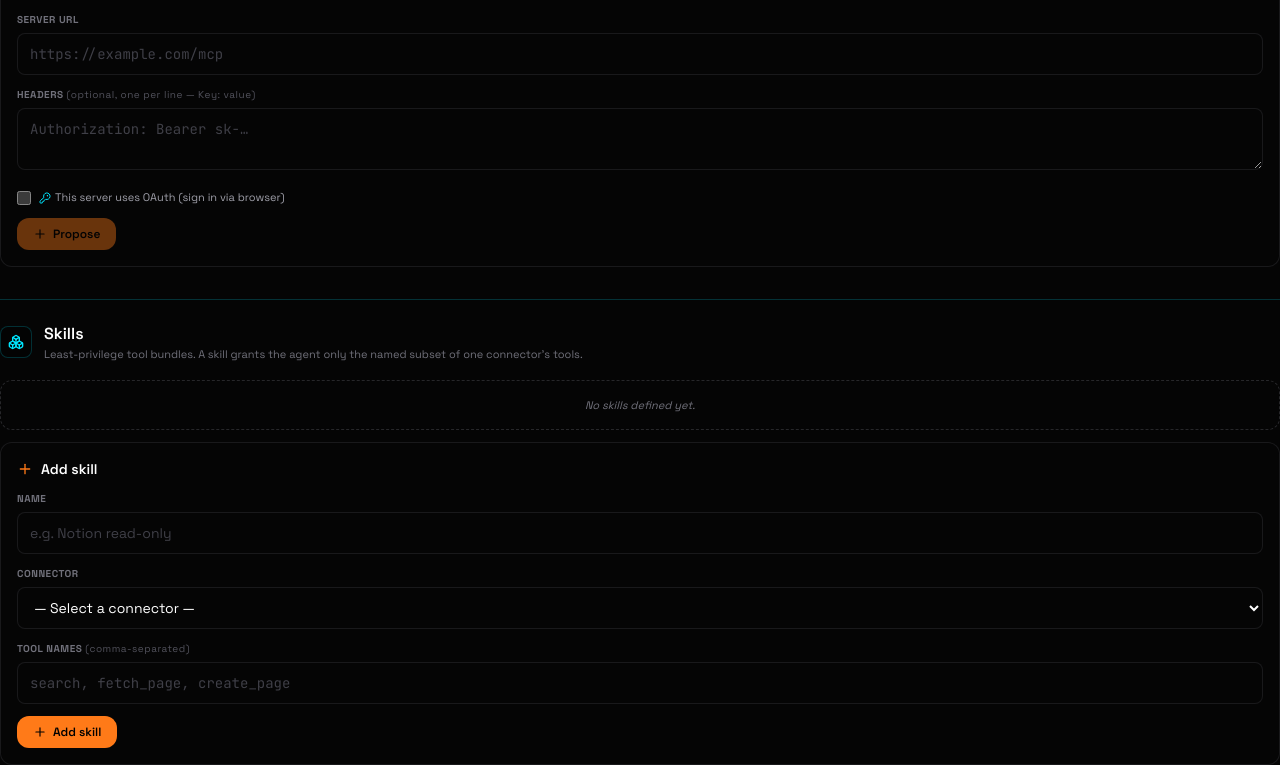
Scenario: CustomizePanel — skills (4NE-27) › Add skill surfaces validation errors and does NOT save an invalid bundle
This screenshot has width=1280, height=765.
(page scrolled)
Type "Broken" into the field with placeholder "e.g. Notion read-only" below "No skills defined yet." at x=640, y=533, box 17,512 -> 1263,554
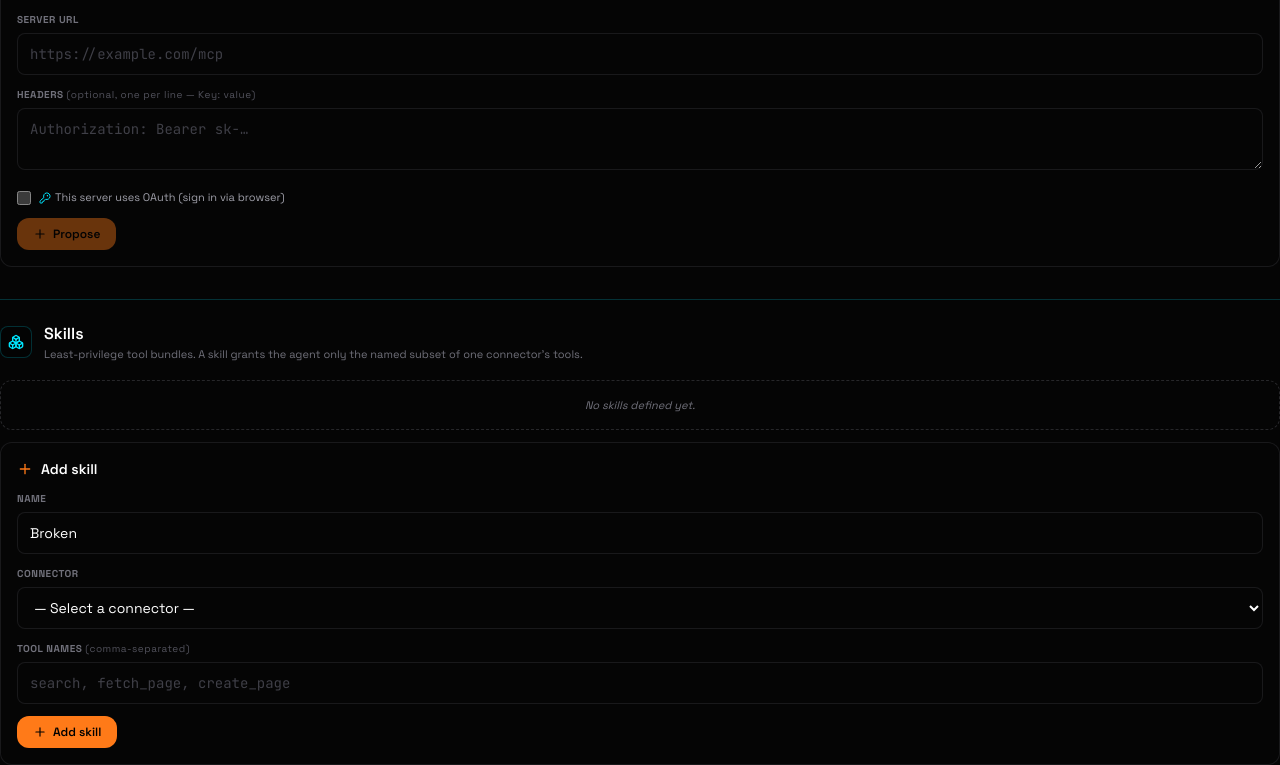
Click the button "Add skill" at x=67, y=732, box 17,716 -> 117,748
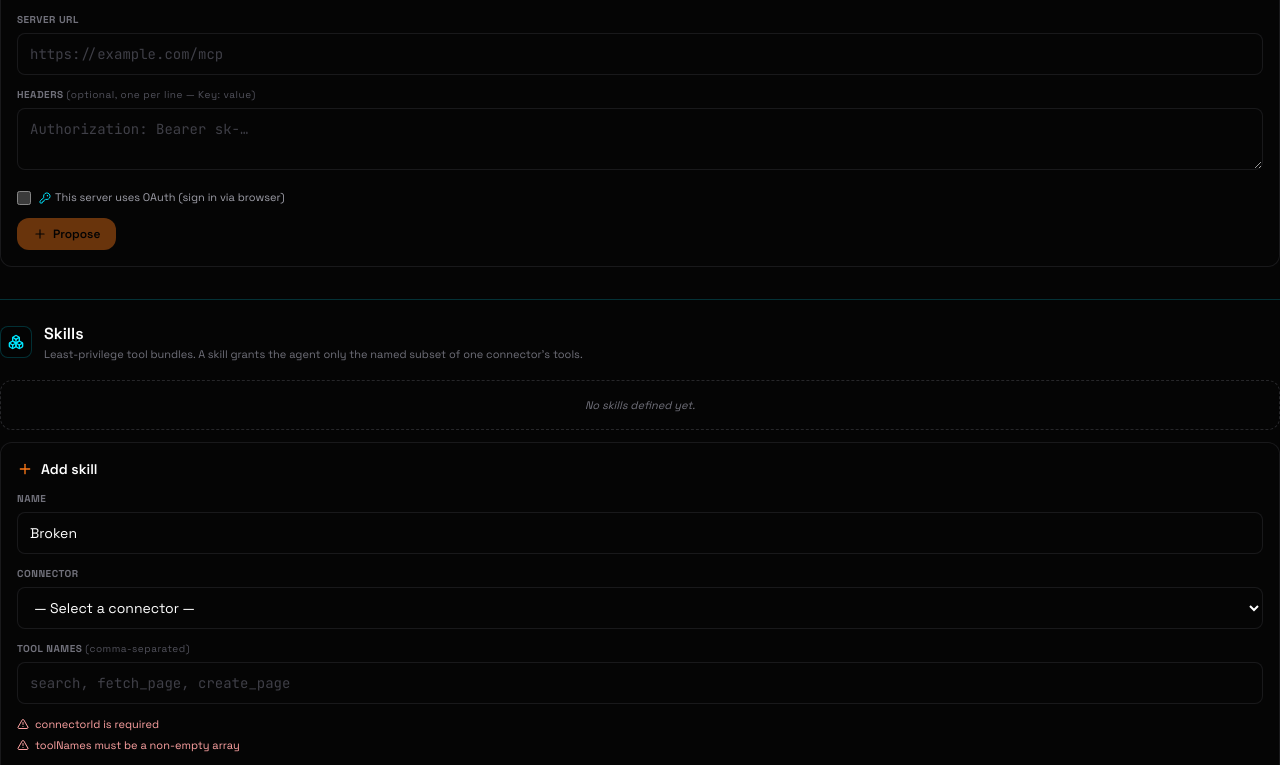
Result: the list item "connectorId is required" is shown at 17,717 -> 159,731
